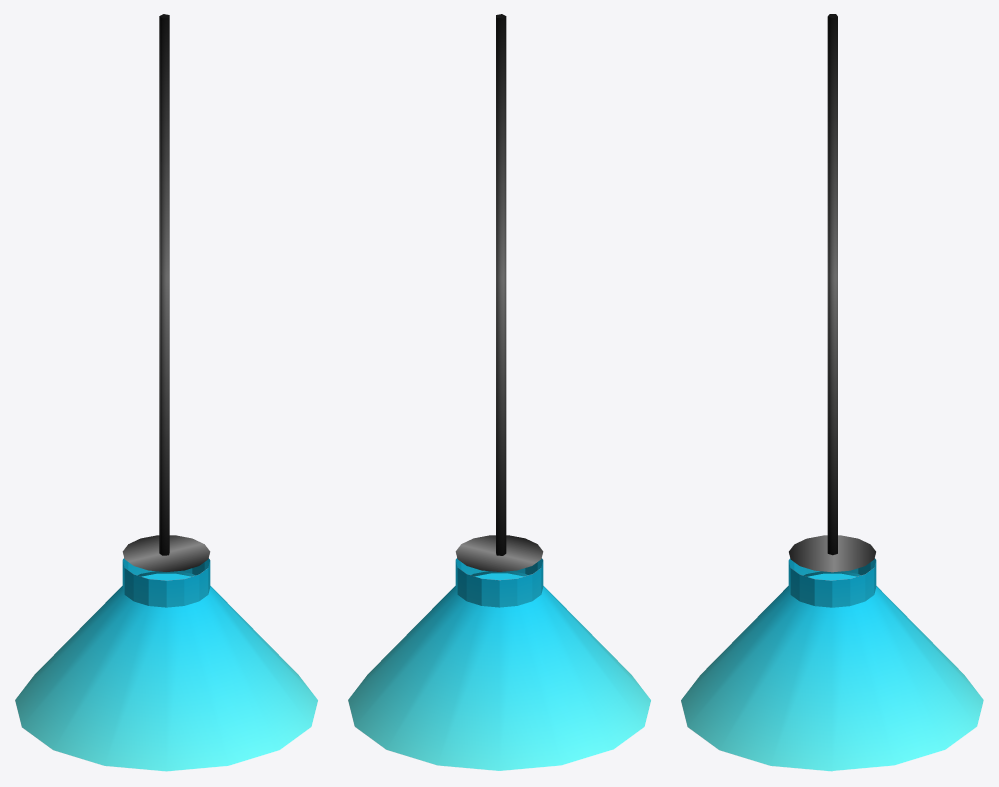
The model's file is Flying Lamp.FBX.
The picture shows the model from 3 angles, left to right: view 1: azimuth 30°, elevation 25°; view 2: azimuth 150°, elevation 25°; view 3: azimuth 270°, elevation 25°; orthographic projection.
Parts seen in each view (by area): view 1: Cylinder001; view 2: Cylinder001; view 3: Cylinder001.
Part boxes in pixels (x1,y1,x2,y2): Cylinder001: [15, 14, 317, 771]; Cylinder001: [348, 14, 650, 770]; Cylinder001: [681, 14, 983, 771].
Size of the model in its own units: 60.81 by 154 by 61.14.
